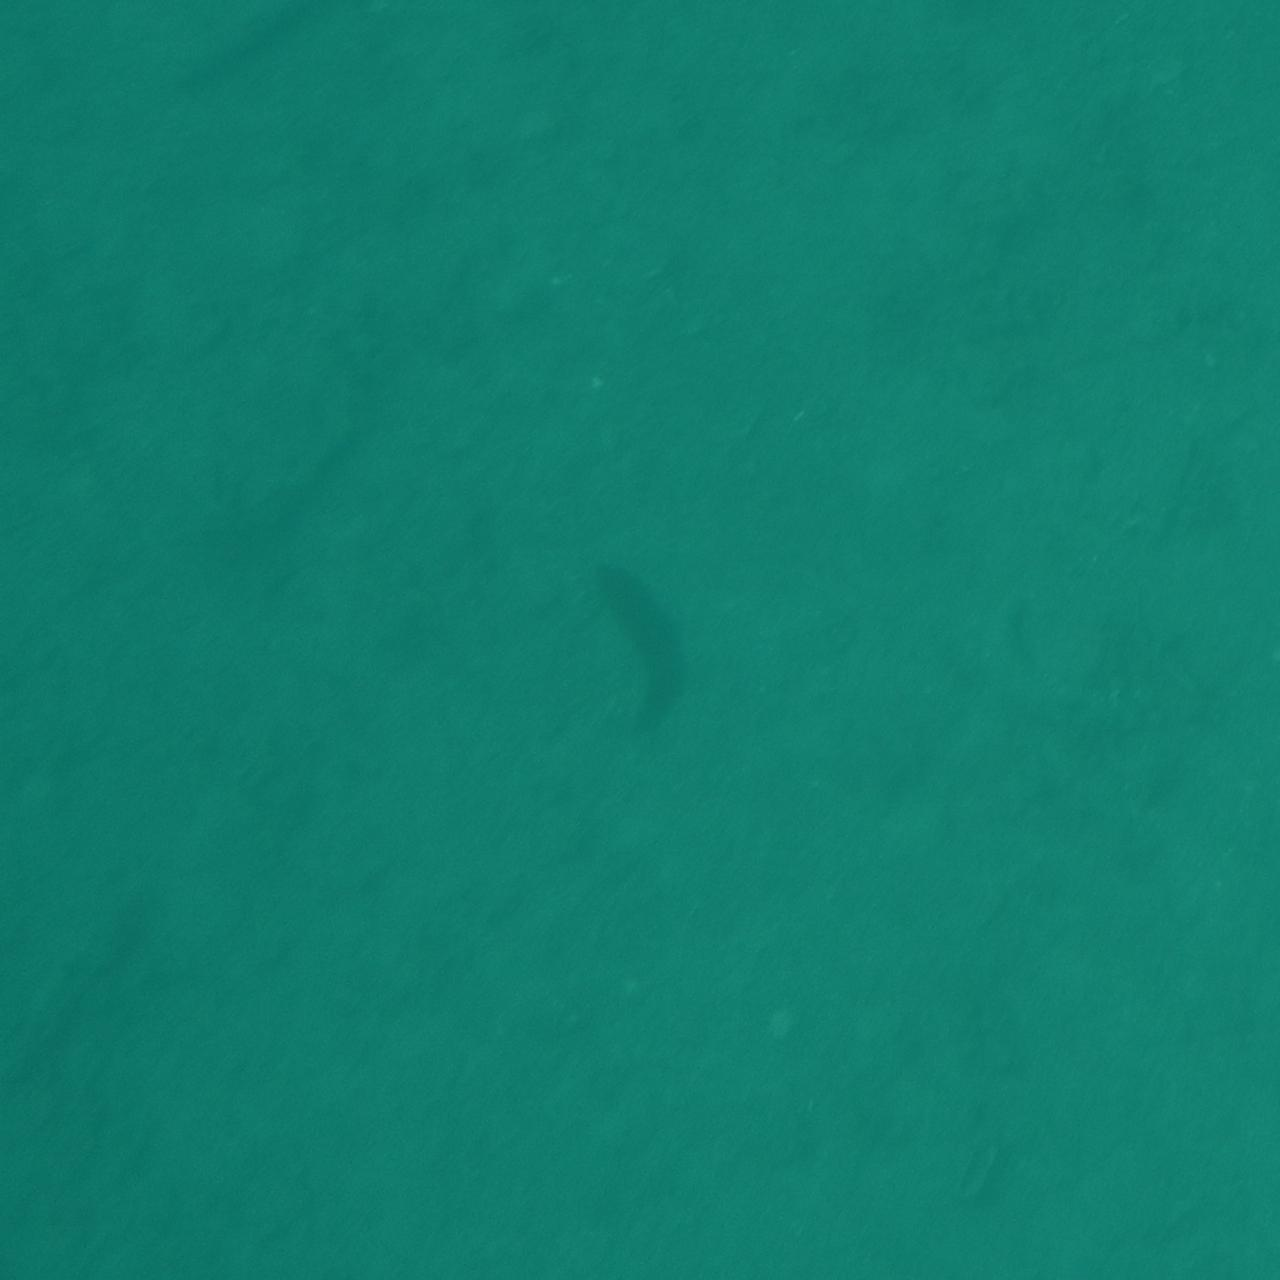Holothuria tubulosa: (558, 520, 722, 762)
